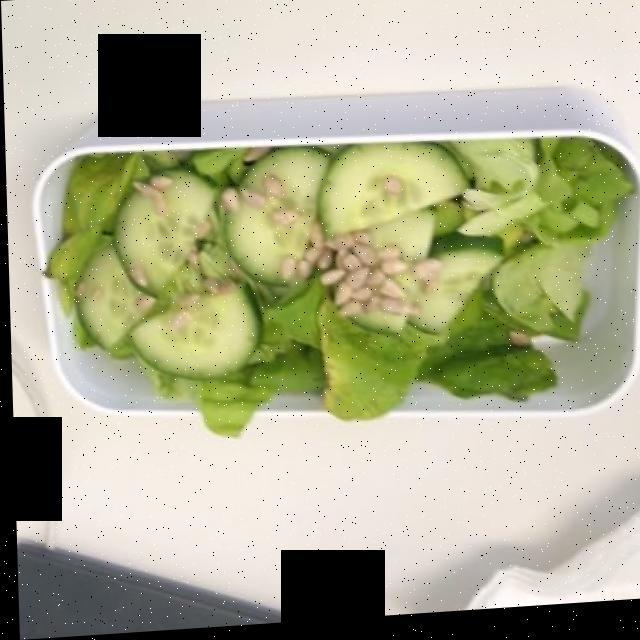cucumber: (69, 148, 554, 391)
salad: (50, 147, 621, 438)
sunflower-seeds: (98, 166, 451, 339)
